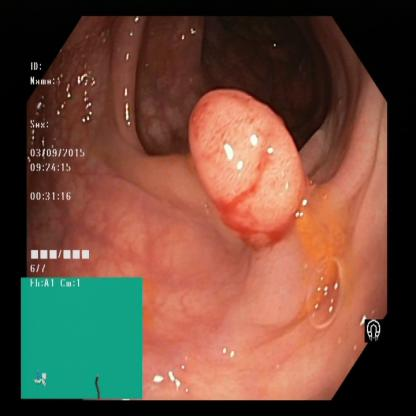Labels: (29, 60, 99, 275), (22, 278, 143, 399), (362, 310, 388, 351)
Polyps: (191, 84, 303, 242)
